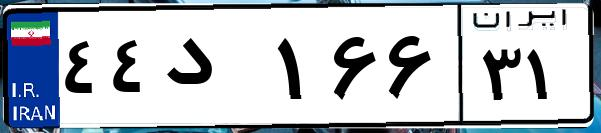1: (270, 28, 330, 110), (525, 38, 570, 115)
3: (475, 38, 525, 113)
4: (57, 26, 110, 100), (110, 28, 158, 98)
6: (385, 28, 445, 110), (330, 28, 385, 110)
د: (158, 20, 270, 120)
